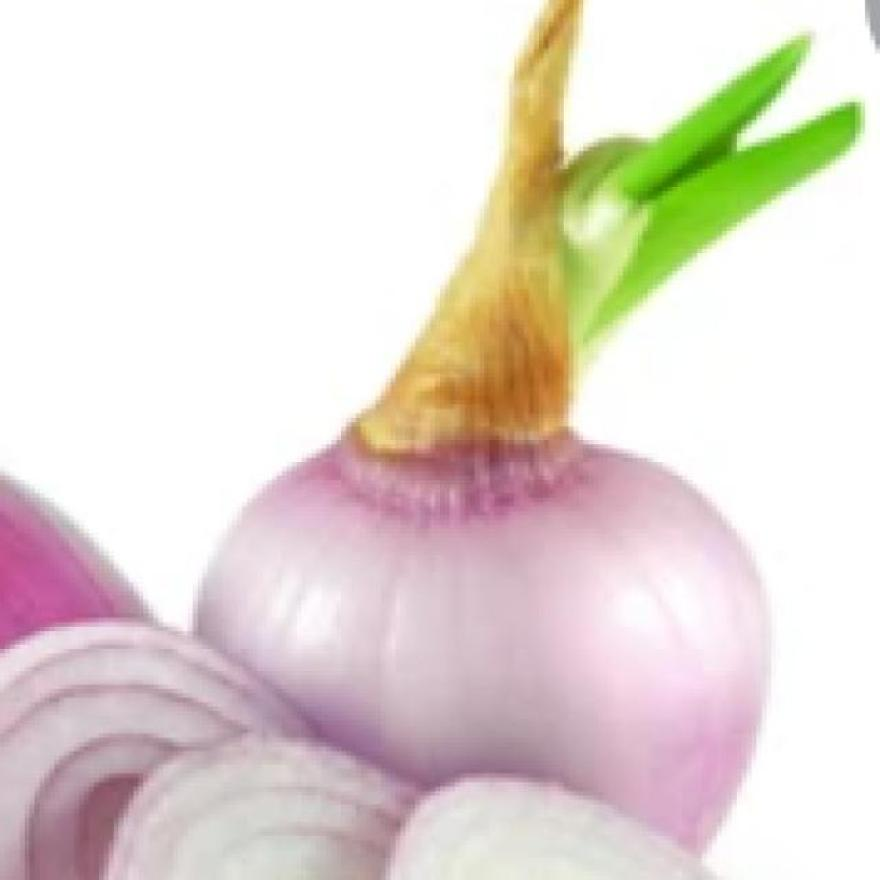Sprouted: (440, 124, 752, 423)
